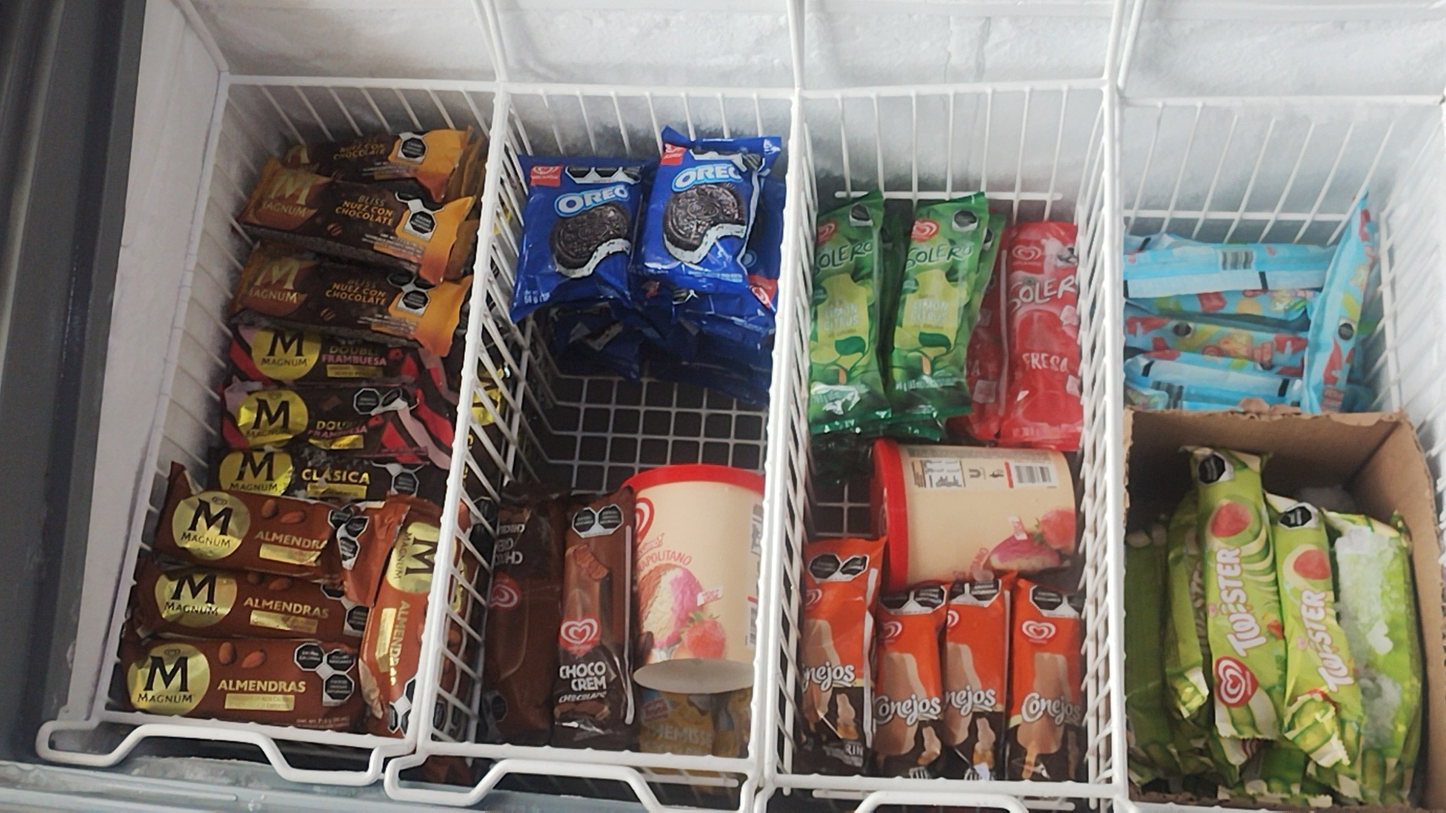Magnum clasica: (198, 450, 420, 498)
Oreo Mordizco: (654, 127, 753, 282), (528, 153, 632, 299)
